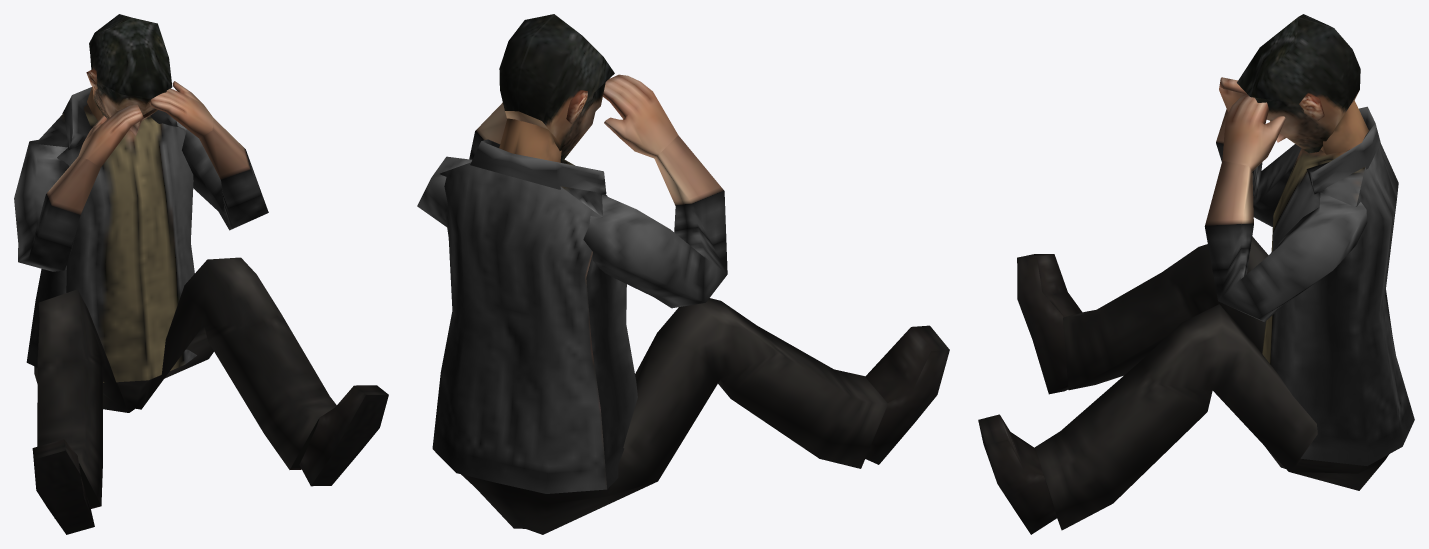
The model's file is KhalidSadPose.fbx.
The picture shows the model from 3 angles, left to right: view 1: azimuth 30°, elevation 25°; view 2: azimuth 150°, elevation 25°; view 3: azimuth 270°, elevation 25°; orthographic projection. The views are drawn at different scales.
Visible parts, largest first — view 1: SM_MainCharacter; view 2: SM_MainCharacter; view 3: SM_MainCharacter.
Boxes of the visible parts, x1,y1,x2,y2 form: SM_MainCharacter: (14, 14, 388, 534); SM_MainCharacter: (417, 14, 949, 534); SM_MainCharacter: (978, 14, 1414, 534).
Bounding box in the file's own units: 0.8923 × 0.8702 × 1.03.
Materials: 1 (1 with a texture image).
